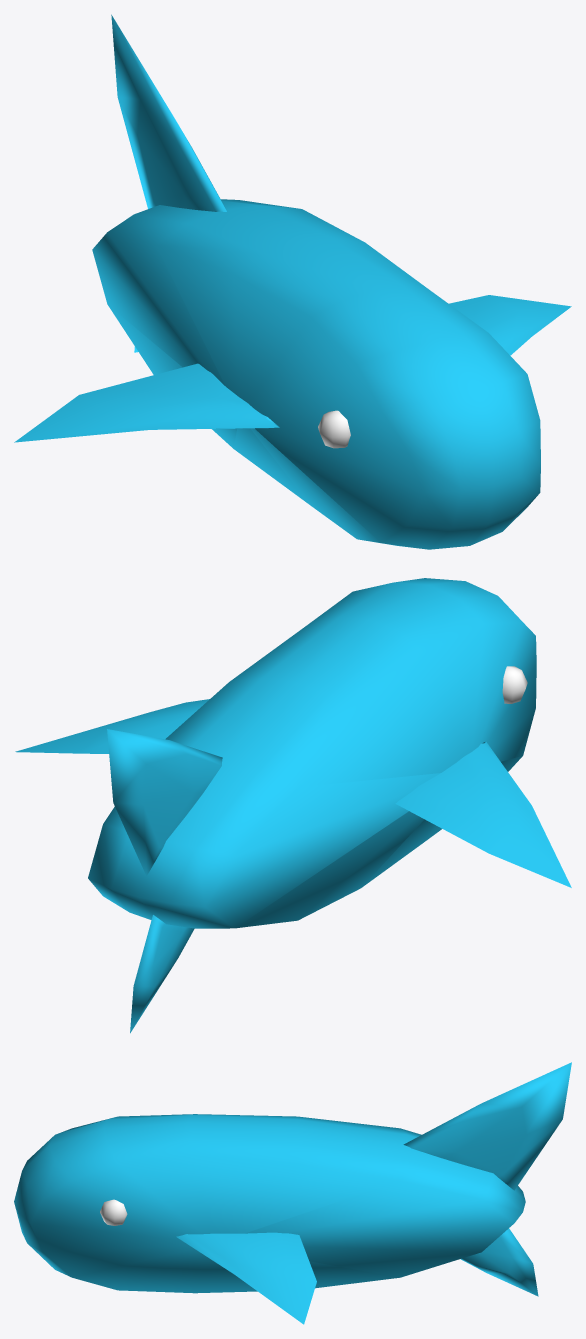
Rendered from SM_GrosPoisson.fbx.
3 views of the same model, one above another, from view 1: azimuth 30°, elevation 25°; view 2: azimuth 150°, elevation 25°; view 3: azimuth 270°, elevation 25° (orthographic). The views are drawn at different scales.
Parts seen in each view (by area): view 1: GrosPoisson; view 2: GrosPoisson; view 3: GrosPoisson.
Boxes of the visible parts, x1,y1,x2,y2 form: GrosPoisson: [14, 14, 571, 549]; GrosPoisson: [15, 578, 571, 1033]; GrosPoisson: [14, 1062, 571, 1324].
Size of the model in its own units: 663 by 365 by 787.
